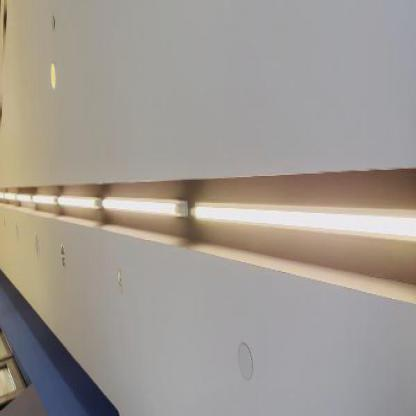light_on: (185, 183, 415, 274), (100, 175, 186, 236), (54, 187, 101, 222), (27, 190, 57, 217), (13, 187, 34, 219), (0, 190, 12, 209)
